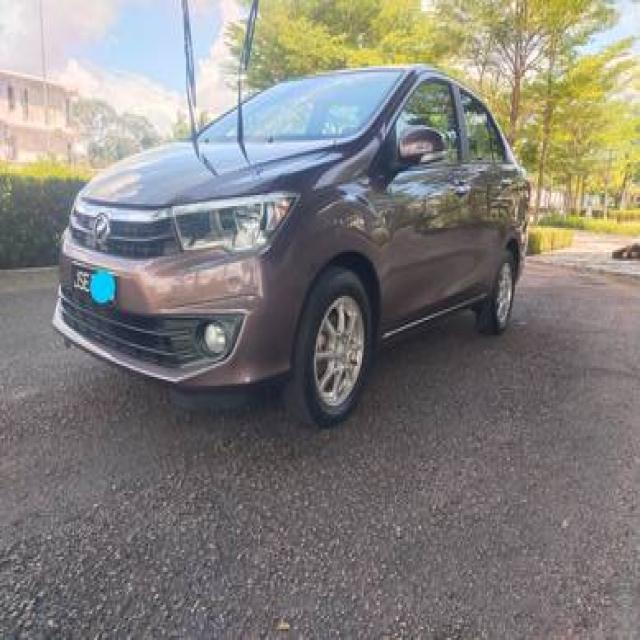PeroduaBezza: (51, 61, 532, 427)
